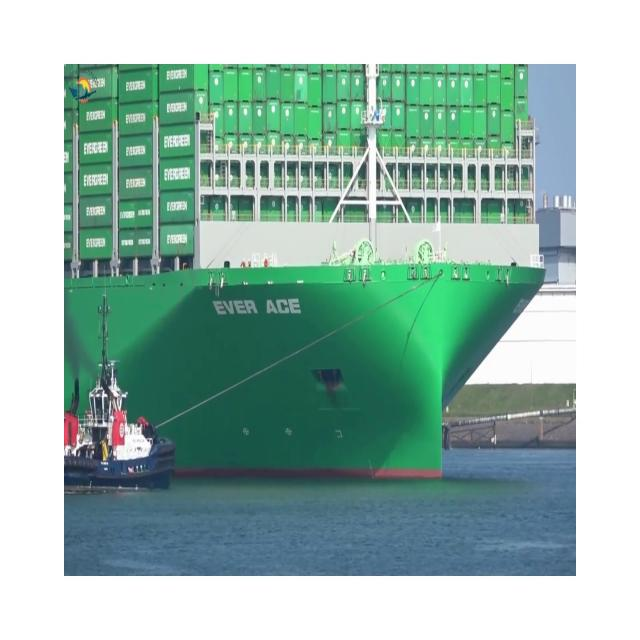OCR: (203, 285, 311, 328)
